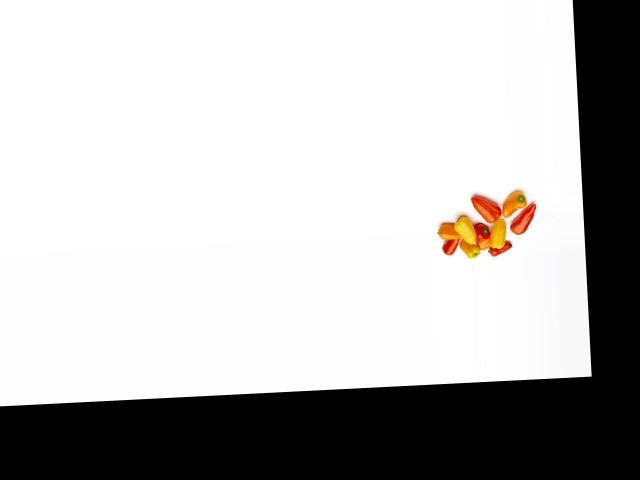bell_pepper: (486, 243, 515, 257)
